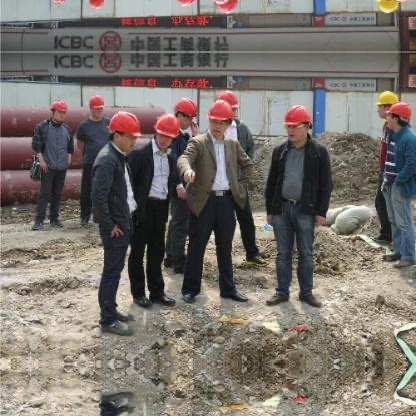Safety Helmet: (279, 102, 319, 148), (108, 110, 143, 158), (151, 109, 179, 149), (383, 100, 415, 135), (206, 100, 233, 141), (170, 96, 199, 132), (371, 88, 399, 120), (49, 97, 70, 127), (87, 94, 107, 124)
